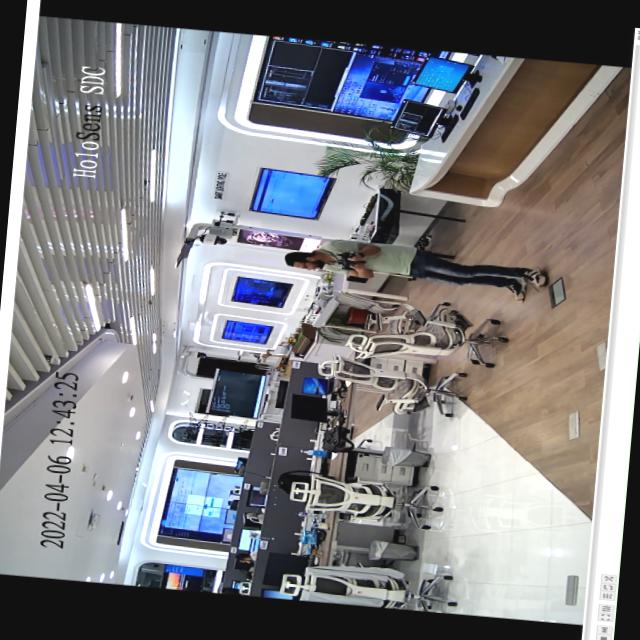long weapon: (334, 246, 372, 272)
